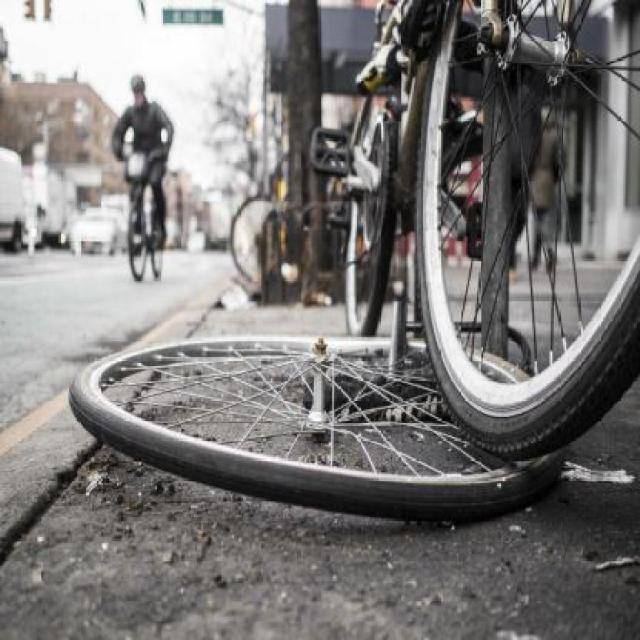Person: (111, 70, 166, 278)
